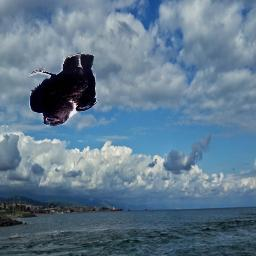Crow: (28, 52, 98, 126)
